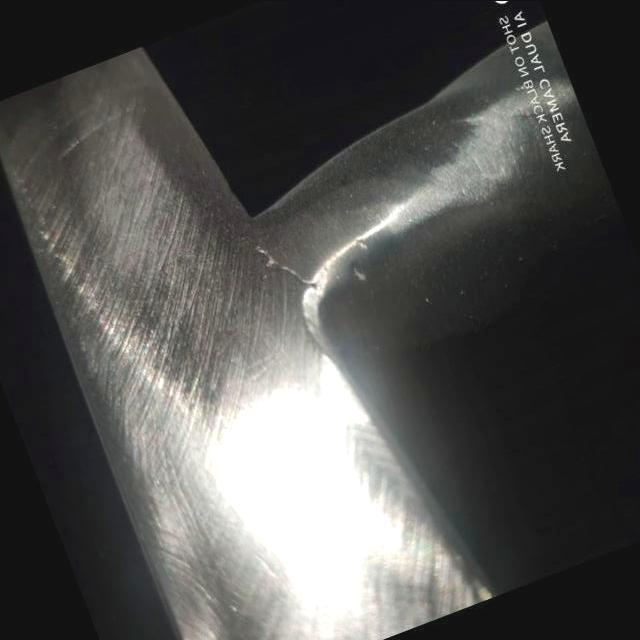defect: (257, 244, 322, 291)
